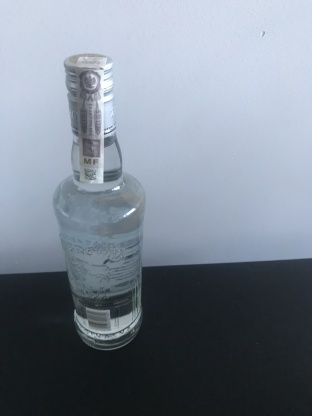nakretka: (62, 50, 119, 141)
